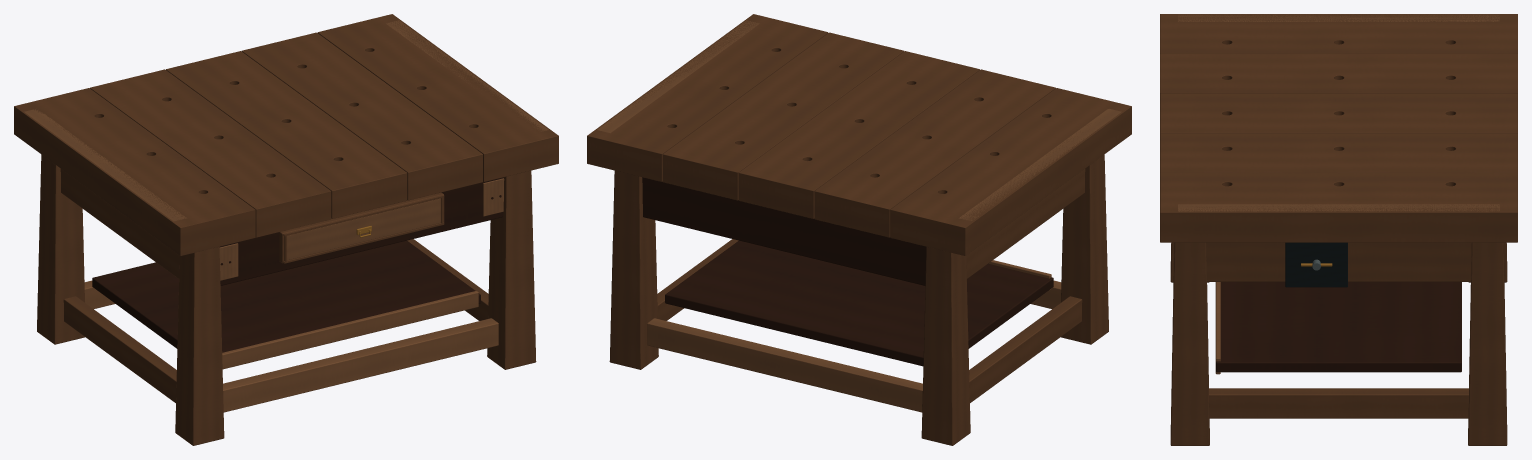
File: asset.glb
3 views of the same model, side by side, from view 1: azimuth 30°, elevation 25°; view 2: azimuth 150°, elevation 25°; view 3: azimuth 270°, elevation 25° (orthographic). The views are drawn at different scales.
Visible parts, largest first — view 1: MaterialBatch_Room_furniture_quarter-sawn_oak, MaterialBatch_Room_furniture_smoked_walnut, MaterialBatch_Room_furniture_light_oak; view 2: MaterialBatch_Room_furniture_quarter-sawn_oak, MaterialBatch_Room_furniture_smoked_walnut, MaterialBatch_Room_furniture_light_oak; view 3: MaterialBatch_Room_furniture_quarter-sawn_oak, MaterialBatch_Room_furniture_smoked_walnut, MaterialBatch_Room_furniture_light_oak, Assembly table end vise plate.
Part boxes in pixels (left/top/right/bottom): MaterialBatch_Room_furniture_quarter-sawn_oak: left=14, top=14, right=558, bottom=445; MaterialBatch_Room_furniture_smoked_walnut: left=92, top=177, right=503, bottom=352; MaterialBatch_Room_furniture_light_oak: left=24, top=20, right=548, bottom=412; MaterialBatch_Room_furniture_quarter-sawn_oak: left=587, top=14, right=1131, bottom=445; MaterialBatch_Room_furniture_smoked_walnut: left=642, top=177, right=1053, bottom=366; MaterialBatch_Room_furniture_light_oak: left=597, top=20, right=1121, bottom=412; MaterialBatch_Room_furniture_quarter-sawn_oak: left=1160, top=14, right=1517, bottom=445; MaterialBatch_Room_furniture_smoked_walnut: left=1216, top=282, right=1461, bottom=372; MaterialBatch_Room_furniture_light_oak: left=1178, top=14, right=1499, bottom=374; Assembly table end vise plate: left=1285, top=242, right=1347, bottom=287.
Bounding box in the file's own units: 42 × 24 × 32.
6 materials, 6 textured.
